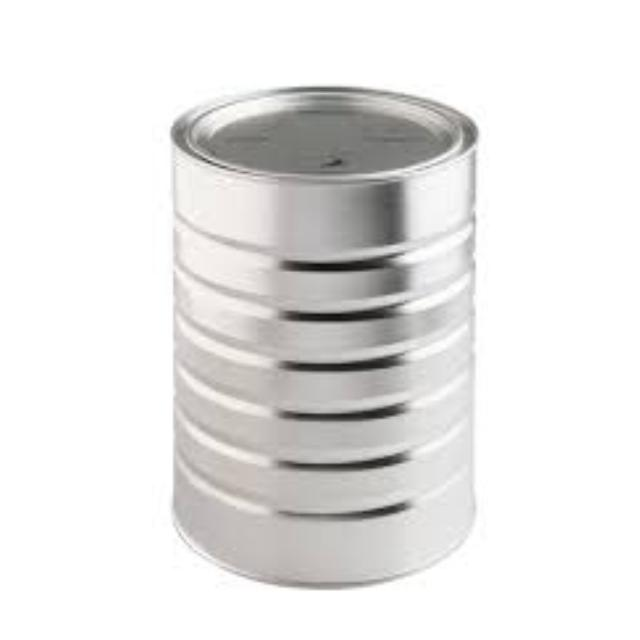Metal: (166, 85, 478, 590)
